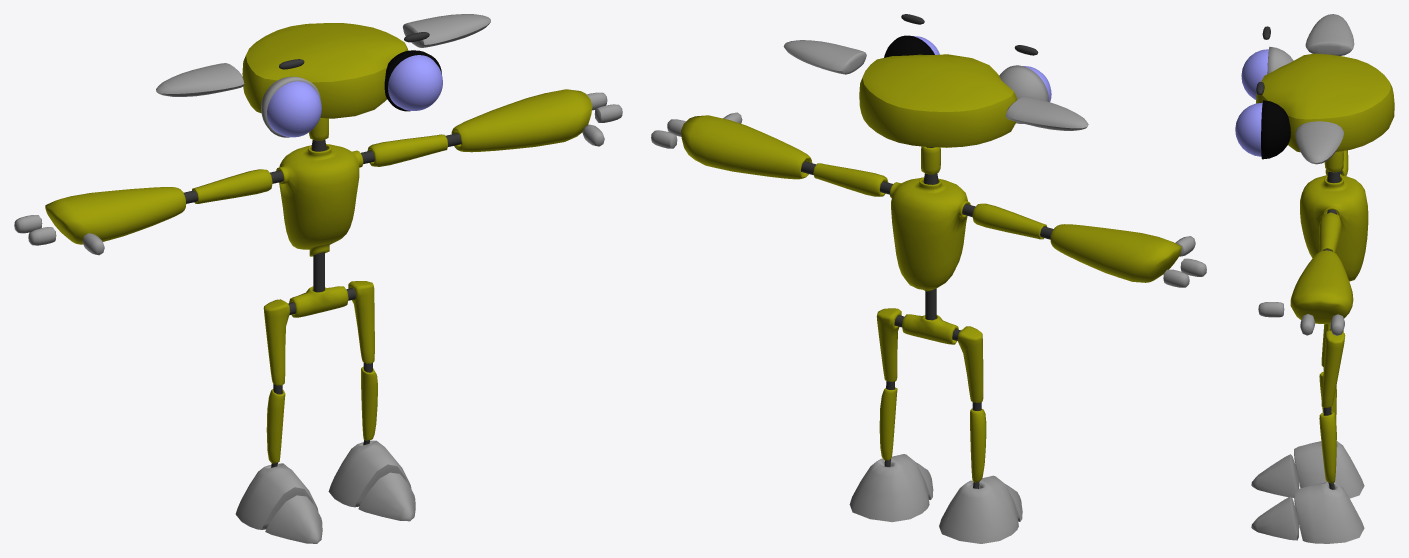
The model's file is die13.obj.
The picture shows the model from 3 angles, left to right: view 1: azimuth 30°, elevation 25°; view 2: azimuth 150°, elevation 25°; view 3: azimuth 270°, elevation 25°; orthographic projection. The views are drawn at different scales.
Visible parts, largest first — view 1: Mesh polySurface41, Mesh polySurface50, Mesh polySurface18, Mesh polySurface37, Mesh polySurface48, Mesh polySurface22, Mesh polySurface6, Mesh polySurface10, Mesh polySurface26, Mesh polySurface24, Mesh polySurface8, Mesh polySurface47 (+8 smaller); view 2: Mesh polySurface41, Mesh polySurface50, Mesh polySurface48, Mesh polySurface18, Mesh polySurface37, Mesh polySurface26, Mesh polySurface10, Mesh polySurface47, Mesh polySurface38, Mesh polySurface51, Mesh polySurface44, Mesh polySurface28 (+6 smaller); view 3: Mesh polySurface50, Mesh polySurface41, Mesh polySurface10, Mesh polySurface18, Mesh polySurface48, Mesh polySurface26, Mesh polySurface44, Mesh polySurface4, Mesh polySurface12, Mesh polySurface8, Mesh polySurface24, Mesh polySurface6 (+10 smaller).
Boxes of the visible parts, x1=… form: Mesh polySurface41: x1=276, y1=144, x2=363, y2=256; Mesh polySurface50: x1=246, y1=23, x2=406, y2=82; Mesh polySurface18: x1=451, y1=89, x2=592, y2=152; Mesh polySurface37: x1=45, y1=187, x2=186, y2=244; Mesh polySurface48: x1=242, y1=44, x2=408, y2=118; Mesh polySurface22: x1=267, y1=81, x2=321, y2=137; Mesh polySurface6: x1=388, y1=55, x2=442, y2=110; Mesh polySurface10: x1=328, y1=440, x2=411, y2=507; Mesh polySurface26: x1=235, y1=463, x2=318, y2=529; Mesh polySurface24: x1=265, y1=495, x2=322, y2=543; Mesh polySurface8: x1=358, y1=472, x2=415, y2=521; Mesh polySurface47: x1=156, y1=63, x2=244, y2=93; Mesh polySurface41: x1=889, y1=177, x2=970, y2=291; Mesh polySurface50: x1=862, y1=54, x2=1013, y2=111; Mesh polySurface48: x1=859, y1=75, x2=1016, y2=147; Mesh polySurface18: x1=681, y1=115, x2=812, y2=179; Mesh polySurface37: x1=1050, y1=224, x2=1181, y2=282; Mesh polySurface26: x1=939, y1=475, x2=1018, y2=543; Mesh polySurface10: x1=849, y1=454, x2=929, y2=521; Mesh polySurface47: x1=1005, y1=96, x2=1088, y2=128; Mesh polySurface38: x1=972, y1=203, x2=1046, y2=239; Mesh polySurface51: x1=813, y1=163, x2=888, y2=196; Mesh polySurface44: x1=783, y1=40, x2=864, y2=71; Mesh polySurface28: x1=957, y1=326, x2=983, y2=402; Mesh polySurface50: x1=1261, y1=53, x2=1390, y2=119; Mesh polySurface41: x1=1300, y1=174, x2=1368, y2=281; Mesh polySurface10: x1=1294, y1=481, x2=1364, y2=543; Mesh polySurface18: x1=1290, y1=250, x2=1353, y2=323; Mesh polySurface48: x1=1256, y1=82, x2=1394, y2=152; Mesh polySurface26: x1=1294, y1=441, x2=1364, y2=498; Mesh polySurface44: x1=1295, y1=121, x2=1343, y2=162; Mesh polySurface4: x1=1261, y1=100, x2=1290, y2=159; Mesh polySurface12: x1=1321, y1=330, x2=1345, y2=407; Mesh polySurface8: x1=1251, y1=497, x2=1297, y2=540; Mesh polySurface24: x1=1251, y1=454, x2=1295, y2=497; Mesh polySurface6: x1=1235, y1=102, x2=1262, y2=156.
Bounding box in the file's own units: 17.79 × 14.23 × 4.58.
